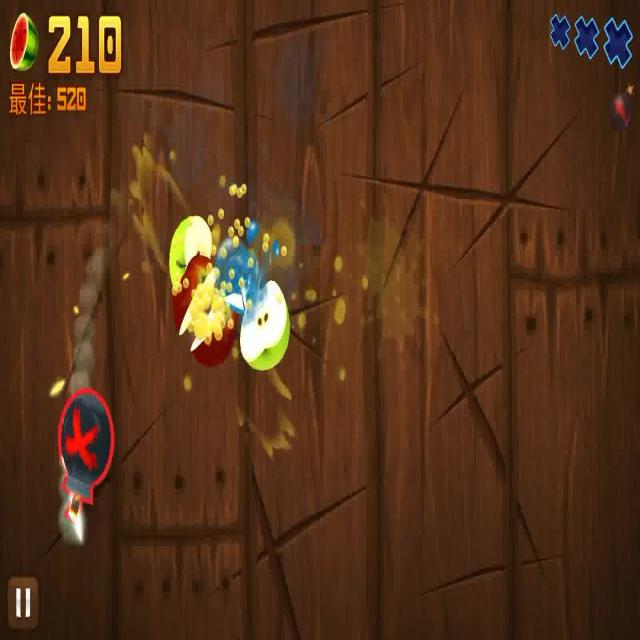bomb: (56, 384, 116, 532)
fruit: (240, 278, 291, 371), (168, 212, 215, 282), (186, 305, 238, 366)
